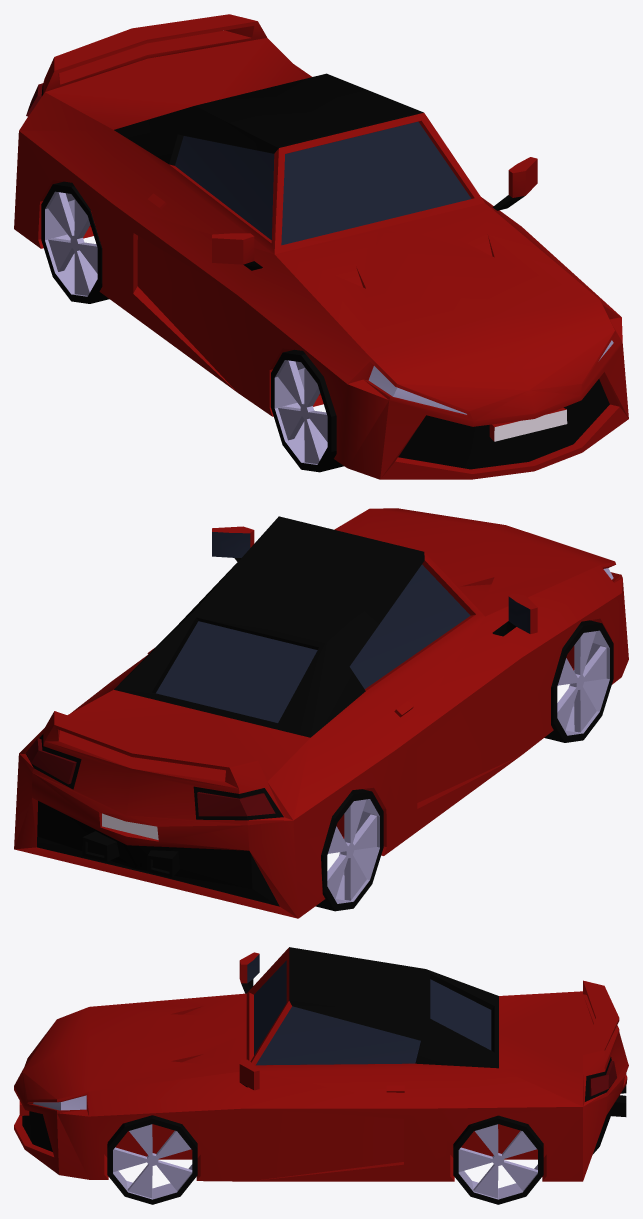
The model's file is sports-car.glb.
3 renders of one model, top to bottom at view 1: azimuth 30°, elevation 25°; view 2: azimuth 150°, elevation 25°; view 3: azimuth 270°, elevation 25°, orthographic. The views are drawn at different scales.
Visible parts, largest first — view 1: body, wheel_fr, wheel_rr; view 2: body, wheel_fr, wheel_rr; view 3: body, wheel_fl, wheel_rl.
Part boxes in pixels (box(x1,y1,x2,y2)): body: box(14, 14, 628, 479); wheel_fr: box(271, 349, 343, 472); wheel_rr: box(41, 181, 109, 303); body: box(14, 508, 628, 918); wheel_fr: box(544, 620, 613, 742); wheel_rr: box(315, 789, 383, 911); body: box(14, 947, 628, 1181); wheel_fl: box(107, 1115, 197, 1204); wheel_rl: box(453, 1115, 543, 1204).
Size of the model in its own units: 2.11 by 1.47 by 4.58.
